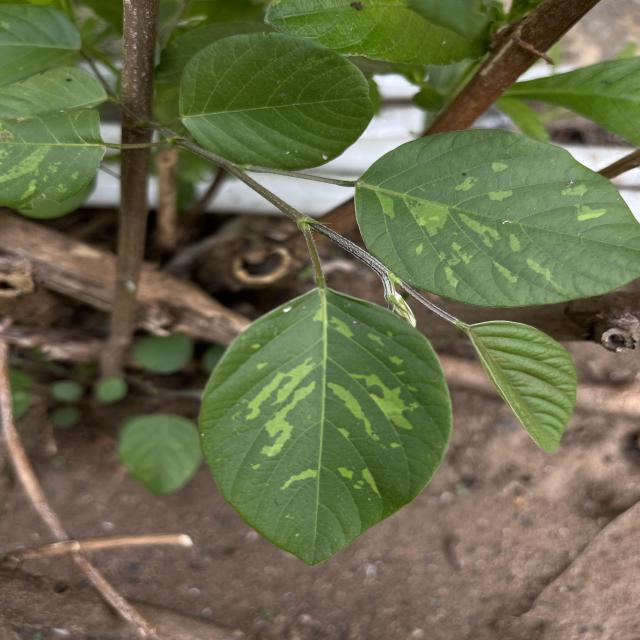Desmodium gangeticum: (194, 286, 456, 569), (351, 126, 640, 311)
